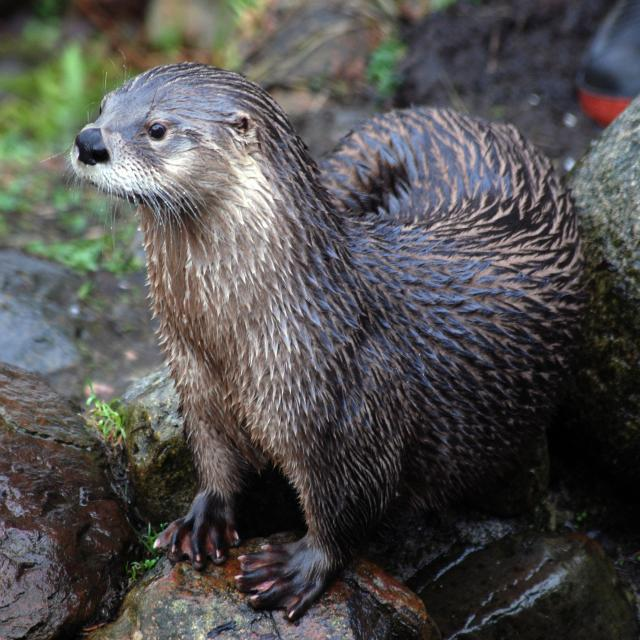otter: (73, 64, 587, 619)
